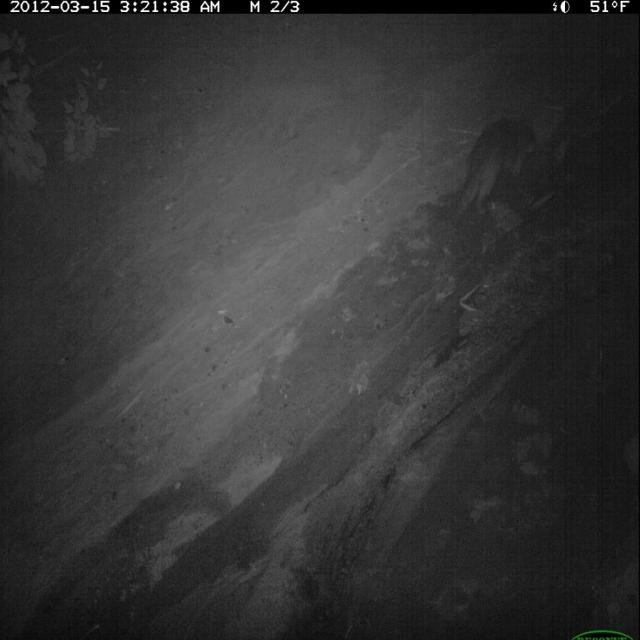raccoon: (452, 103, 532, 227)
